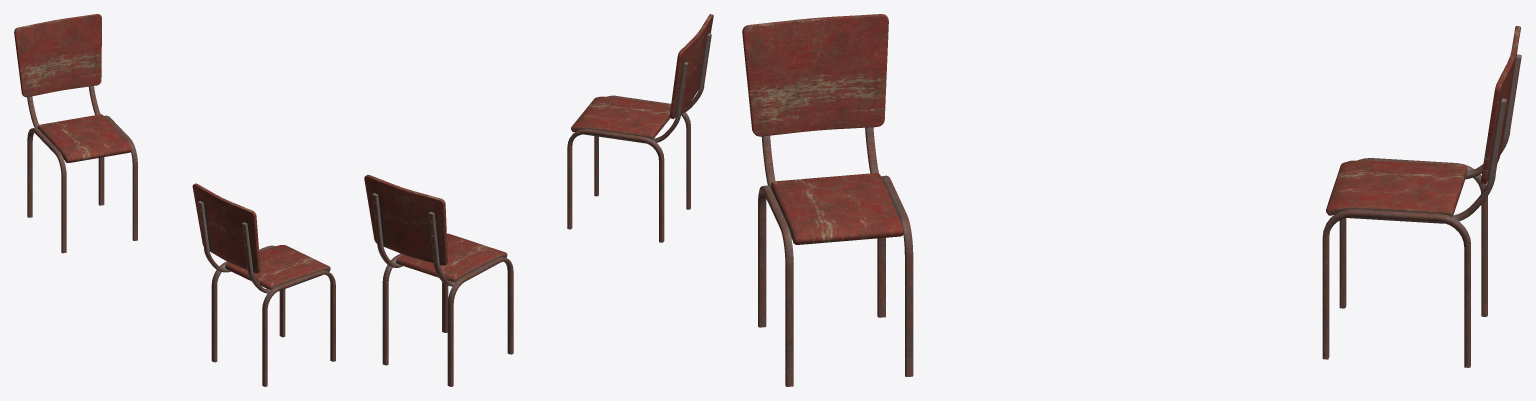
Rendered from S3chairs.fbx.
3 views of the same model, side by side, from view 1: azimuth 30°, elevation 25°; view 2: azimuth 150°, elevation 25°; view 3: azimuth 270°, elevation 25° (orthographic). The views are drawn at different scales.
Visible parts, largest first — view 1: stolica, stolica_2; view 2: stolica, stolica_2; view 3: stolica_2, stolica.
Boxes of the visible parts, box(x1,y1,x2,y2) form: stolica: box(14, 14, 137, 253); stolica_2: box(192, 183, 335, 386); stolica: box(364, 175, 513, 386); stolica_2: box(567, 14, 713, 242); stolica_2: box(742, 14, 913, 386); stolica: box(1322, 26, 1521, 367).
Size of the model in its own units: 57.81 by 91.79 by 221.
